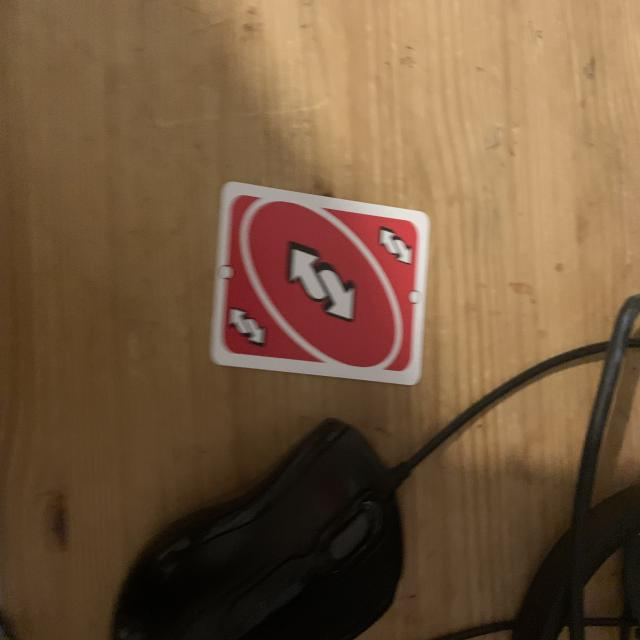lredrevers-20: (372, 224, 418, 269)
